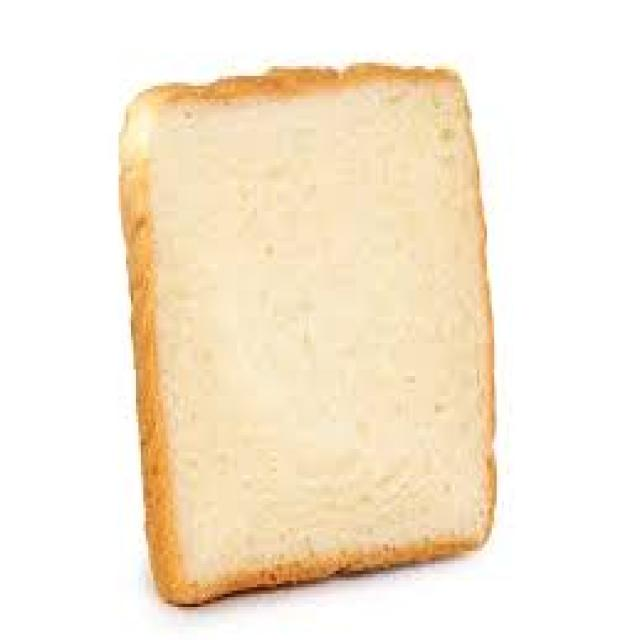Bread: (120, 68, 496, 603)
